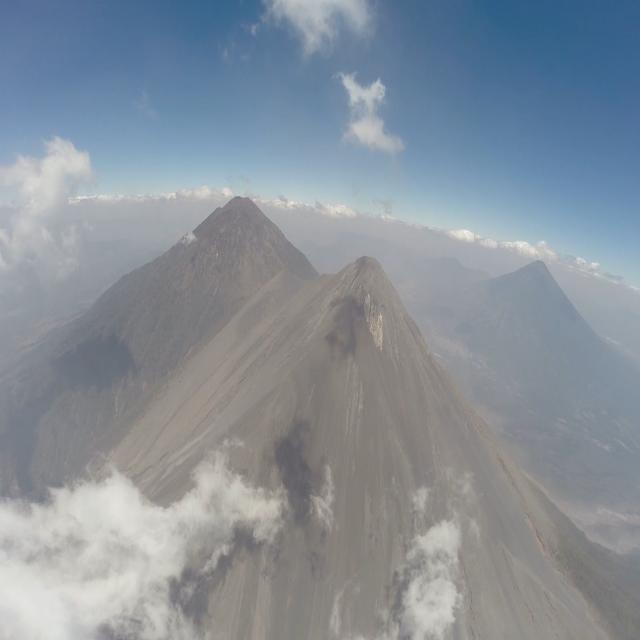Summit: (308, 252, 420, 360)
